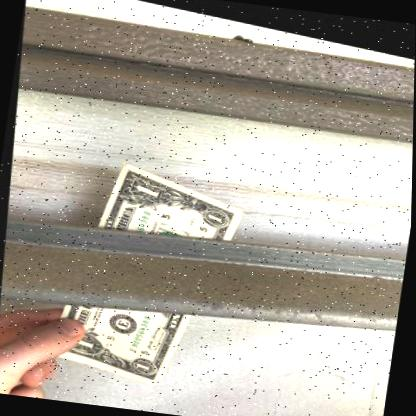one-front: (45, 160, 242, 384)
